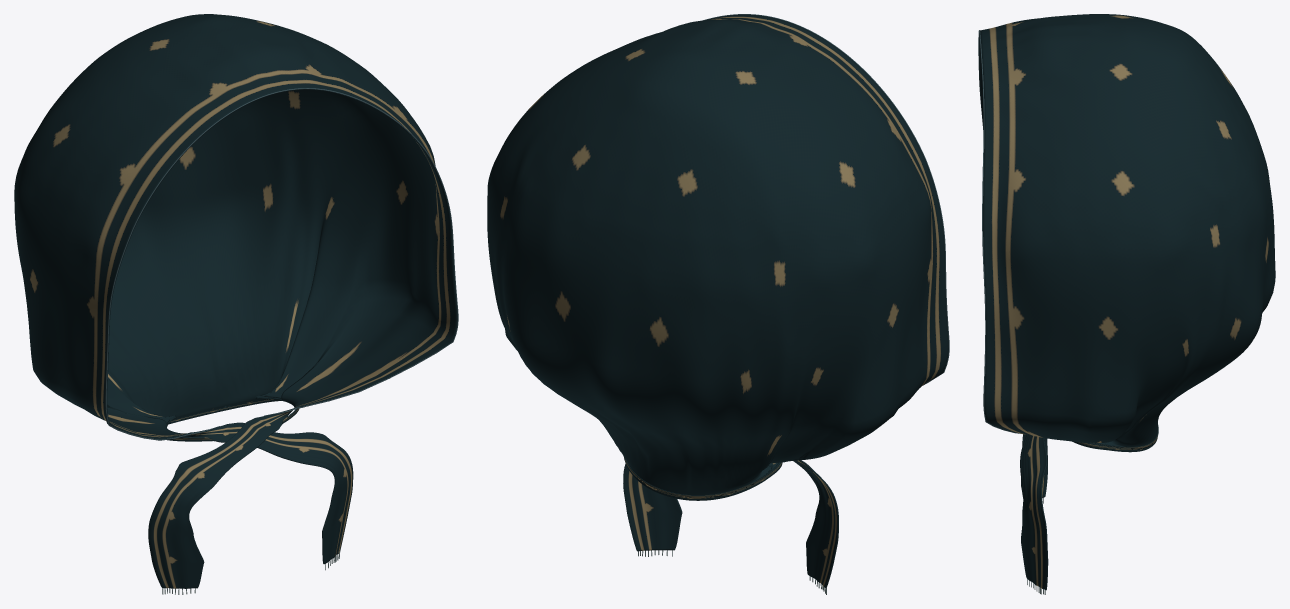
File: Masculine-sidepart-shirtless-pashmina249-headgear.glb
The picture shows the model from 3 angles, left to right: view 1: azimuth 30°, elevation 25°; view 2: azimuth 150°, elevation 25°; view 3: azimuth 270°, elevation 25°; orthographic projection. The views are drawn at different scales.
Visible parts, largest first — view 1: 226 headgear / Headwear / continuous woven pashmina239, 226 headgear / Headwear / face edge239; view 2: 226 headgear / Headwear / continuous woven pashmina239, 226 headgear / Headwear / face edge239; view 3: 226 headgear / Headwear / continuous woven pashmina239, 226 headgear / Headwear / face edge239.
Part boxes in pixels (left/top/right/bottom): 226 headgear / Headwear / continuous woven pashmina239: left=14, top=14, right=457, bottom=588; 226 headgear / Headwear / face edge239: left=105, top=88, right=458, bottom=440; 226 headgear / Headwear / continuous woven pashmina239: left=487, top=14, right=948, bottom=588; 226 headgear / Headwear / face edge239: left=703, top=14, right=949, bottom=385; 226 headgear / Headwear / continuous woven pashmina239: left=979, top=14, right=1275, bottom=590; 226 headgear / Headwear / face edge239: left=978, top=30, right=1020, bottom=433.
Bounding box in the file's own units: 1.04 × 1.42 × 0.7321.
Materials: 3 (1 with a texture image).
